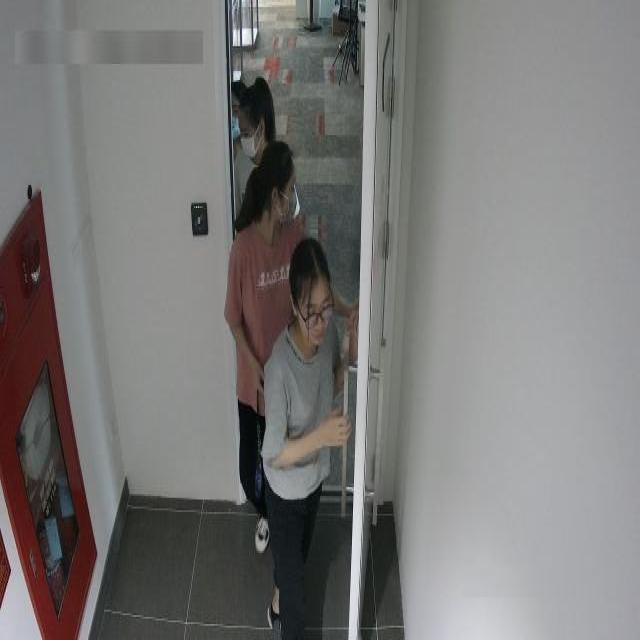bare_hand: (315, 396, 358, 473), (237, 345, 272, 398)
